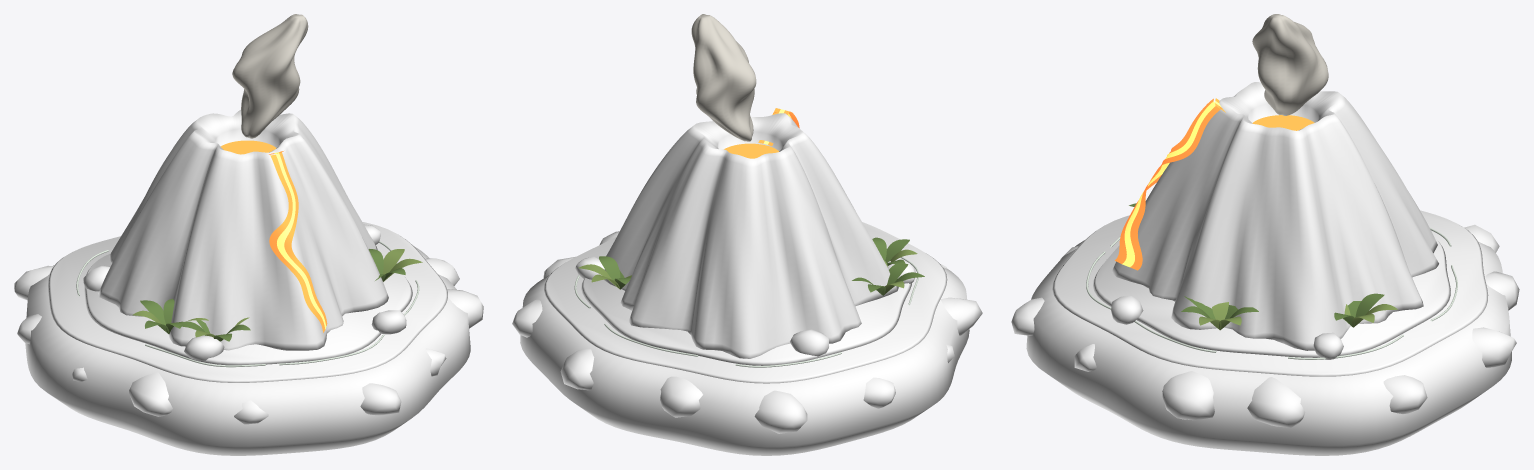
The model's file is volcano-island-v3.glb.
The picture shows the model from 3 angles, left to right: view 1: azimuth 30°, elevation 25°; view 2: azimuth 150°, elevation 25°; view 3: azimuth 270°, elevation 25°; orthographic projection. The views are drawn at different scales.
Visible parts, largest first — view 1: Volcano | hollow fluted mountain, Rock | irregular island foundation, Water | enclosed turquoise lagoon, Sand | island shore, Smoke | blended plume, Lava | continuous winding flow, Rock | shoreline boulder.007, Rock | shoreline boulder.009, Rock | shoreline boulder.011, Rock | beach stone, Rock | beach stone.001, Rock | shoreline boulder.004 (+2 smaller); view 2: Volcano | hollow fluted mountain, Rock | irregular island foundation, Water | enclosed turquoise lagoon, Sand | island shore, Smoke | blended plume, Rock | shoreline boulder.004, Rock | shoreline boulder.003, Rock | shoreline boulder.002, Rock | shoreline boulder.007, Rock | beach stone.003, Rock | shoreline boulder.005, Rock | shoreline boulder.001 (+1 smaller); view 3: Volcano | hollow fluted mountain, Rock | irregular island foundation, Water | enclosed turquoise lagoon, Sand | island shore, Smoke | blended plume, Lava | continuous winding flow, Rock | shoreline boulder.011, Rock | shoreline boulder, Rock | shoreline boulder.001, Rock | shoreline boulder.002, Rock | shoreline boulder.009, Rock | shoreline boulder.003 (+3 smaller).
Part boxes in pixels (x1,y1,x2,y2): Volcano | hollow fluted mountain: (98,110,388,350); Rock | irregular island foundation: (25,246,470,455); Water | enclosed turquoise lagoon: (48,222,447,382); Sand | island shore: (84,245,412,365); Smoke | blended plume: (232,14,308,138); Lava | continuous winding flow: (269,151,327,332); Rock | shoreline boulder.007: (129,372,172,416); Rock | shoreline boulder.009: (360,383,401,415); Rock | shoreline boulder.011: (447,289,483,328); Rock | beach stone: (184,335,224,360); Rock | beach stone.001: (371,310,406,334); Rock | shoreline boulder.004: (14,265,53,300); Volcano | hollow fluted mountain: (604,113,898,358); Rock | irregular island foundation: (520,267,969,455); Water | enclosed turquoise lagoon: (544,222,947,383); Sand | island shore: (581,259,911,365); Smoke | blended plume: (691,14,756,141); Rock | shoreline boulder.004: (754,390,807,433); Rock | shoreline boulder.003: (660,376,702,417); Rock | shoreline boulder.002: (560,349,594,390); Rock | shoreline boulder.007: (940,297,982,335); Rock | beach stone.003: (790,329,828,356); Rock | shoreline boulder.005: (863,377,895,408); Rock | shoreline boulder.001: (512,299,542,337); Volcano | hollow fluted mountain: (1112,82,1438,350); Rock | irregular island foundation: (1026,240,1511,455); Water | enclosed turquoise lagoon: (1052,210,1488,376); Sand | island shore: (1093,237,1450,357); Smoke | blended plume: (1252,14,1328,115); Lava | continuous winding flow: (1115,98,1221,270); Rock | shoreline boulder.011: (1162,371,1214,420); Rock | shoreline boulder: (1247,377,1305,427); Rock | shoreline boulder.001: (1383,375,1427,413); Rock | shoreline boulder.002: (1472,327,1516,367); Rock | shoreline boulder.009: (1011,297,1044,335); Rock | shoreline boulder.003: (1485,271,1519,310).
Bounding box in the file's own units: 1.63 × 1.36 × 1.64.
